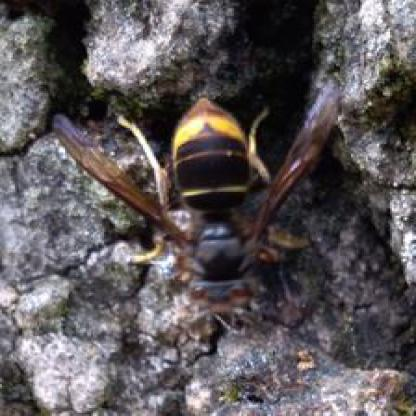Asian Hornet: (54, 88, 356, 306)
